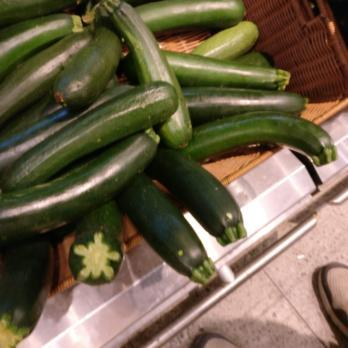Cucumber: (3, 2, 337, 164), (0, 169, 242, 287), (0, 293, 49, 348)
